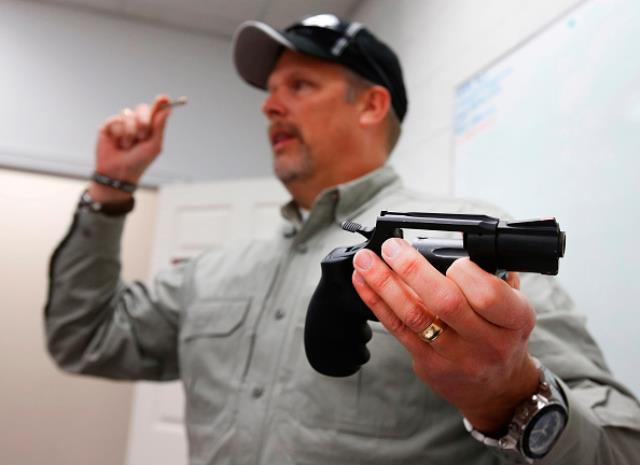Gun: (303, 210, 568, 381)
